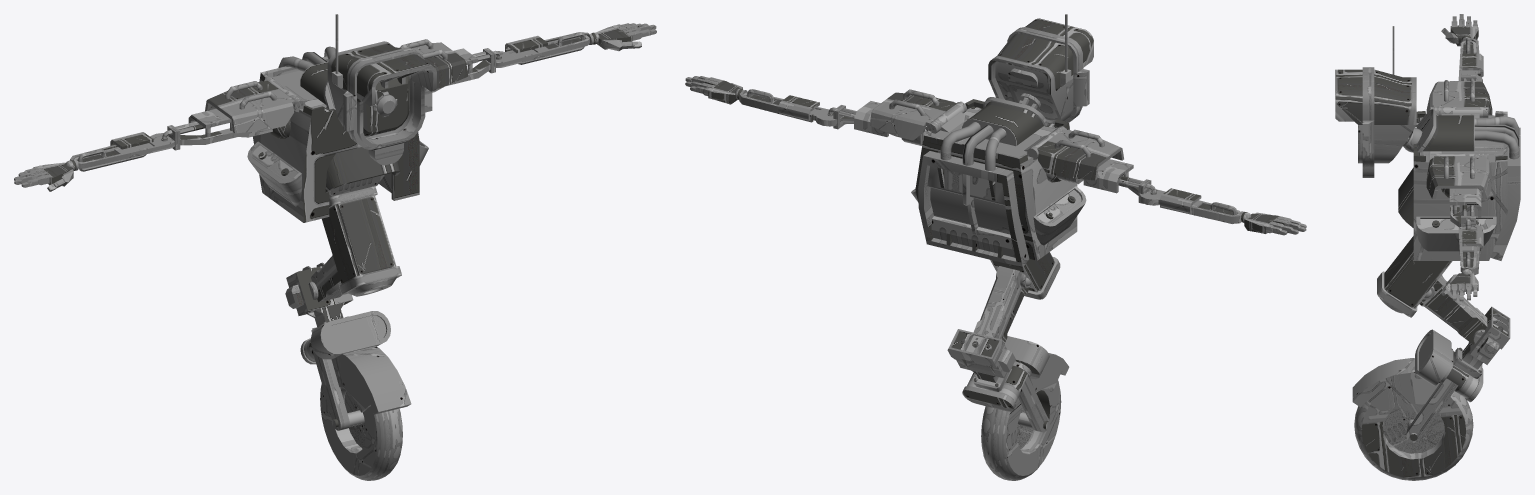
The model's file is scout_full.fbx.
3 views of the same model, side by side, from view 1: azimuth 30°, elevation 25°; view 2: azimuth 150°, elevation 25°; view 3: azimuth 270°, elevation 25° (orthographic). The views are drawn at different scales.
Visible parts, largest first — view 1: upperbody, wheel gaurd, head, lower body, wheel, right_shoulderpad, right_upperarm, right_forearm, left forearm, left shoulderpad, left hand, right_hand (+2 smaller); view 2: upperbody, head, wheel gaurd, wheel, right_shoulderpad, left shoulderpad, body connection, right_upperarm, right_forearm, left forearm, lower body, left upperarm (+2 smaller); view 3: upperbody, wheel gaurd, wheel, head, lower body, left shoulderpad, right_shoulderpad, body connection, left upperarm, left forearm, right_forearm, left hand (+1 smaller).
Part boxes in pixels (x1,y1,x2,y2): upperbody: (247,46,428,222); wheel gaurd: (285,262,411,430); head: (327,14,436,165); lower body: (322,174,401,296); wheel: (320,384,402,480); right_shoulderpad: (205,77,305,133); right_upperarm: (150,108,290,150); right_forearm: (70,132,174,171); left forearm: (496,32,594,67); left shoulderpad: (399,39,467,88); left hand: (591,23,656,51); right_hand: (14,160,76,191); upperbody: (911,97,1086,267); head: (988,14,1093,124); wheel gaurd: (947,329,1069,432); wheel: (981,380,1061,480); right_shoulderpad: (1027,126,1123,180); left shoulderpad: (869,89,967,140); body connection: (973,266,1030,343); right_upperarm: (1046,159,1158,205); right_forearm: (1145,188,1244,223); left forearm: (739,89,833,122); lower body: (990,252,1060,299); left upperarm: (816,101,926,145); upperbody: (1398,109,1520,260); wheel gaurd: (1352,306,1510,442); wheel: (1354,391,1473,480); head: (1335,26,1422,177); lower body: (1377,236,1452,317); left shoulderpad: (1426,153,1492,198); right_shoulderpad: (1426,80,1492,117); body connection: (1419,275,1487,344); left upperarm: (1441,188,1482,231); left forearm: (1458,226,1483,274); right_forearm: (1458,37,1483,80); left hand: (1441,268,1478,301).
Bounding box in the file's own units: 36268 × 25873 × 9926.
